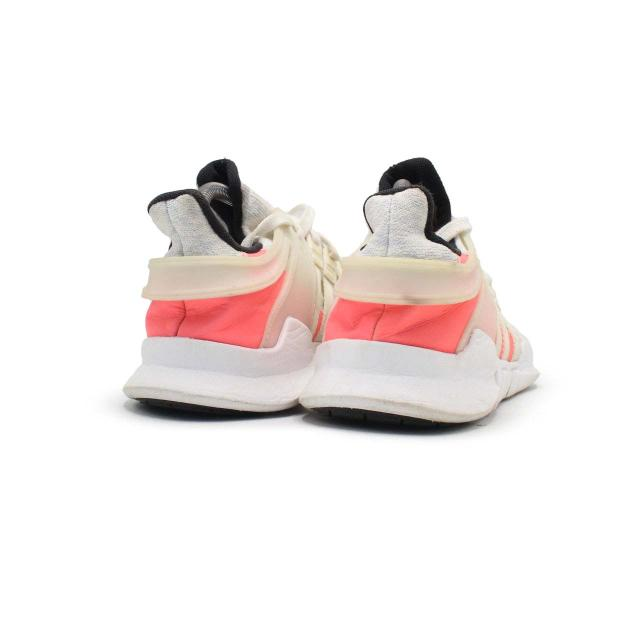heel: (321, 187, 474, 357), (146, 190, 284, 348)
midsole: (298, 330, 539, 421), (124, 319, 318, 417)
